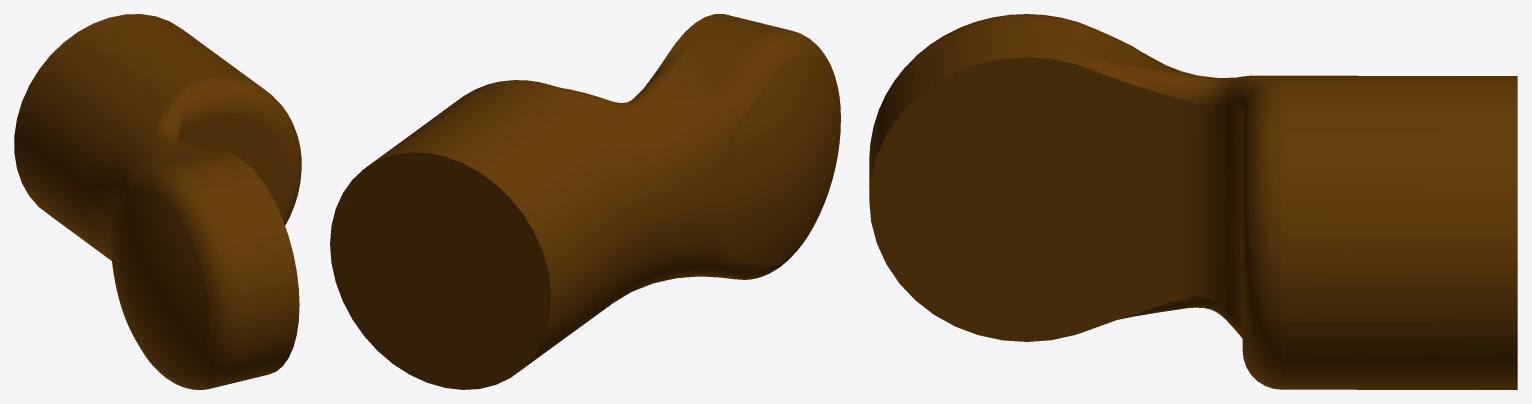
The model's file is inline_link_no_housing.obj.
3 renders of one model, left to right at view 1: azimuth 30°, elevation 25°; view 2: azimuth 150°, elevation 25°; view 3: azimuth 270°, elevation 25°, orthographic. The views are drawn at different scales.
Parts seen in each view (by area): view 1: mesh_1_inline_link_no_; view 2: mesh_1_inline_link_no_; view 3: mesh_1_inline_link_no_.
Boxes of the visible parts, <box> form: mesh_1_inline_link_no_: <box>14,14,301,389</box>; mesh_1_inline_link_no_: <box>330,14,840,389</box>; mesh_1_inline_link_no_: <box>869,14,1517,389</box>.
Size of the model in its own units: 0.0999 by 0.08 by 0.165.
